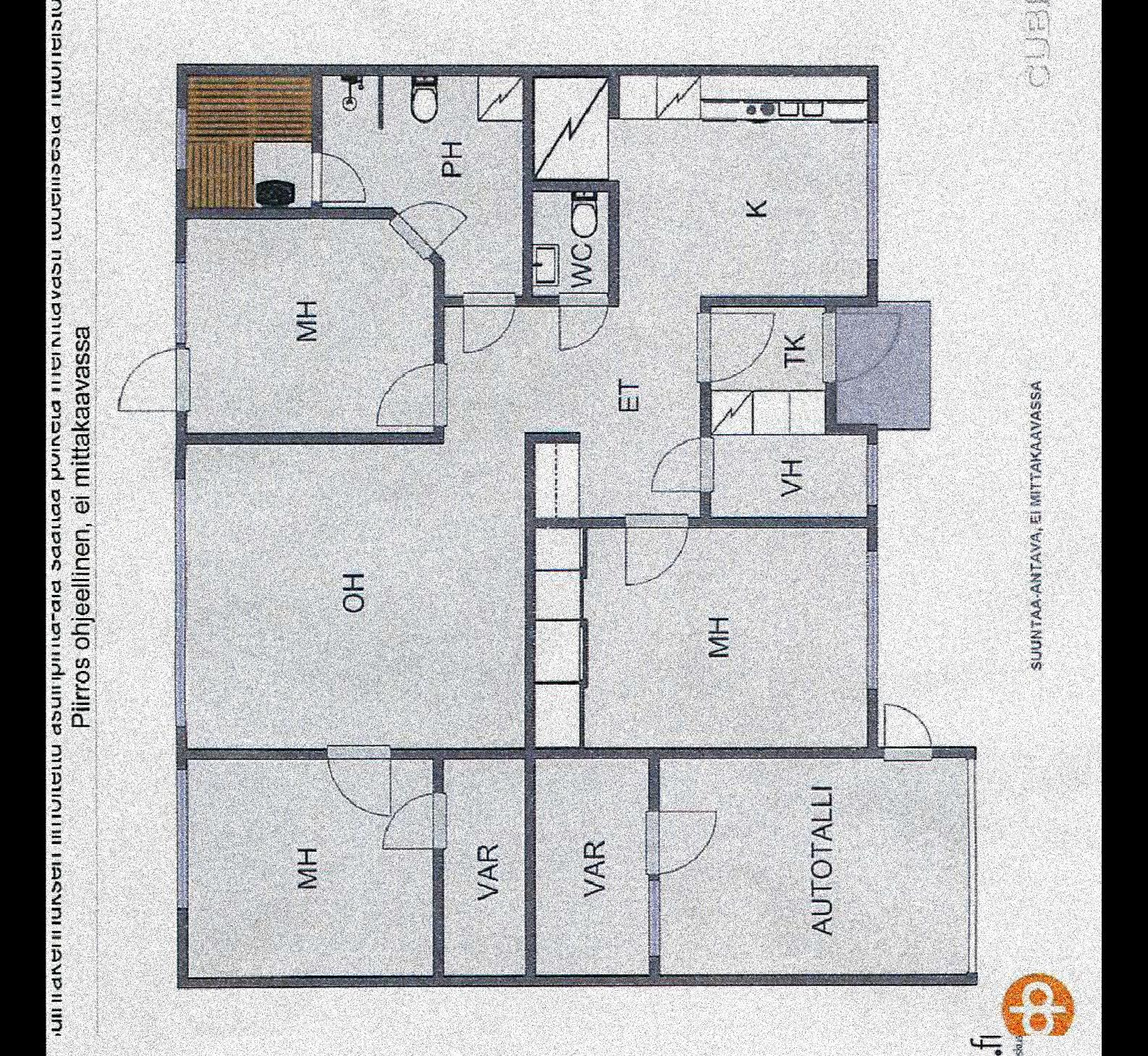door: (325, 733, 397, 826), (114, 345, 195, 418), (693, 309, 773, 382), (625, 511, 697, 588), (826, 309, 904, 379), (372, 364, 452, 432), (647, 807, 719, 875), (399, 196, 466, 266), (876, 697, 940, 767), (380, 789, 448, 854), (456, 287, 516, 357), (648, 436, 717, 496), (554, 285, 611, 353), (309, 149, 363, 205)
window: (173, 480, 186, 726), (863, 549, 884, 692), (174, 771, 194, 907), (863, 121, 880, 262), (648, 881, 667, 958), (172, 262, 190, 341), (866, 440, 883, 505), (174, 109, 191, 168)
zone: (189, 74, 866, 748), (658, 756, 966, 975), (581, 528, 866, 746), (186, 198, 441, 427), (189, 758, 432, 975), (315, 74, 521, 307), (538, 762, 650, 975), (441, 760, 525, 977), (183, 77, 314, 215), (713, 307, 823, 430), (712, 437, 866, 515), (841, 304, 932, 422), (531, 188, 606, 298)
